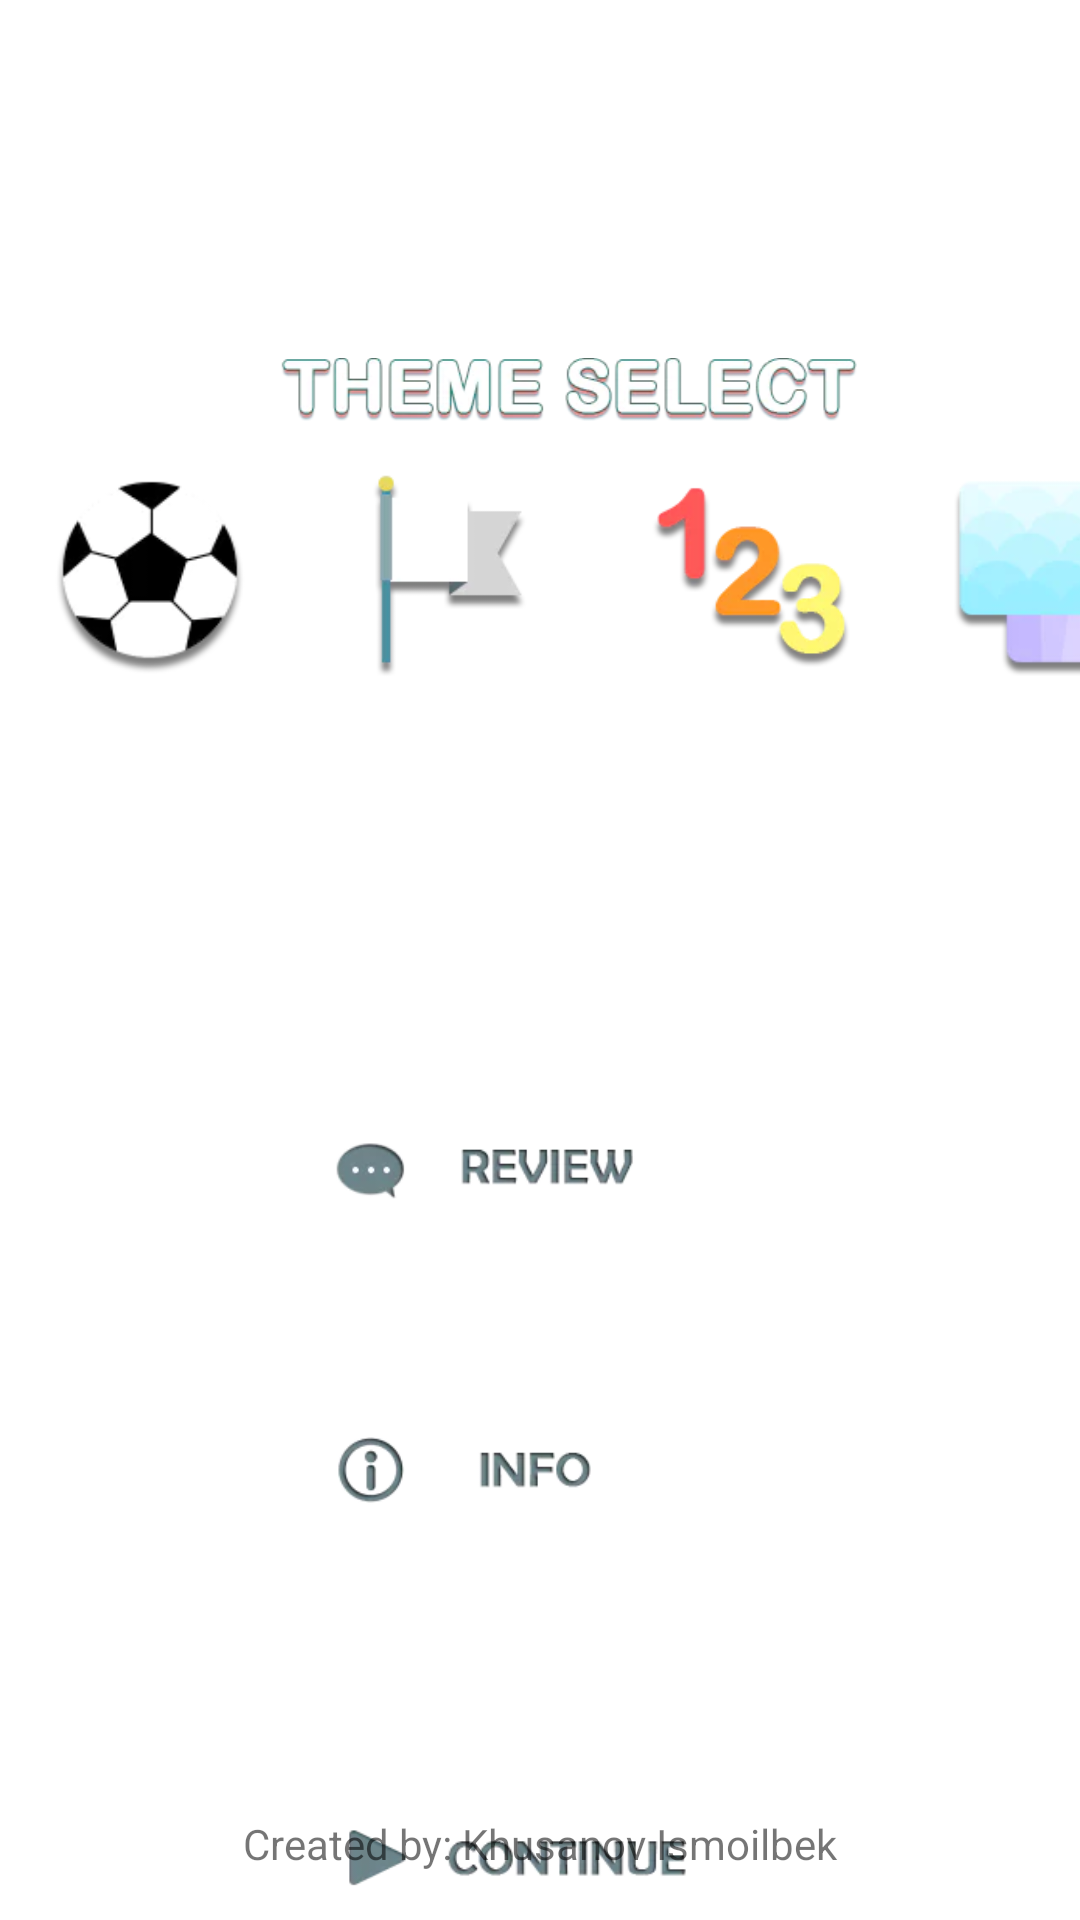

Point at icon controls on the screen. Image size 1080px×1920px, points as (x=x, y=y).
category flag: (x=449, y=574)
category number: (x=751, y=576)
category sport: (x=150, y=575)
